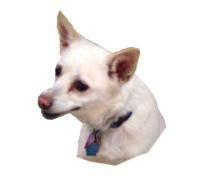dog: (38, 12, 164, 163)
